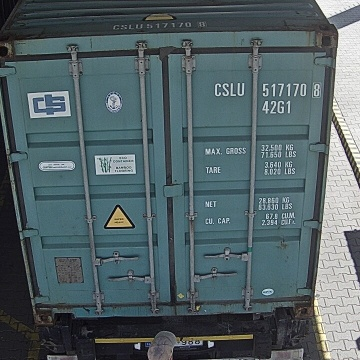serial_id: (215, 82, 321, 96)
